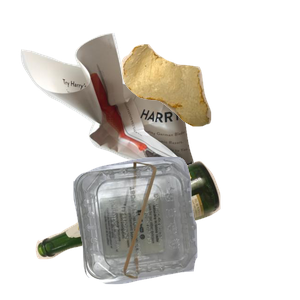glass: (33, 158, 246, 300)
paper: (18, 30, 213, 210)
plastic: (71, 154, 300, 300)
trash: (119, 42, 300, 161)
